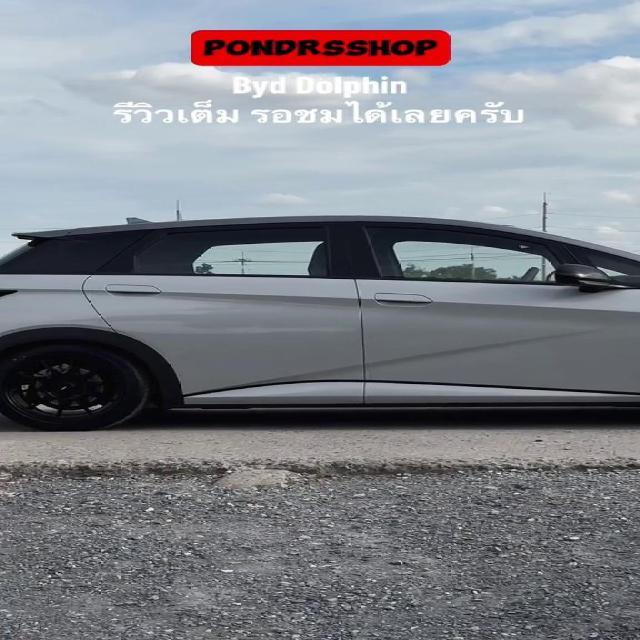Hatchback: (0, 216, 639, 431)
